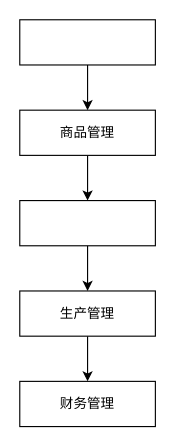
Image size: 175x446. Some labels were removed from this diagram. Here are the shapes that lost their labels. From the top down, the centre of each, then its label:
At pixel 87 42: "开发管理".
At pixel 87 222: "订单管理".
